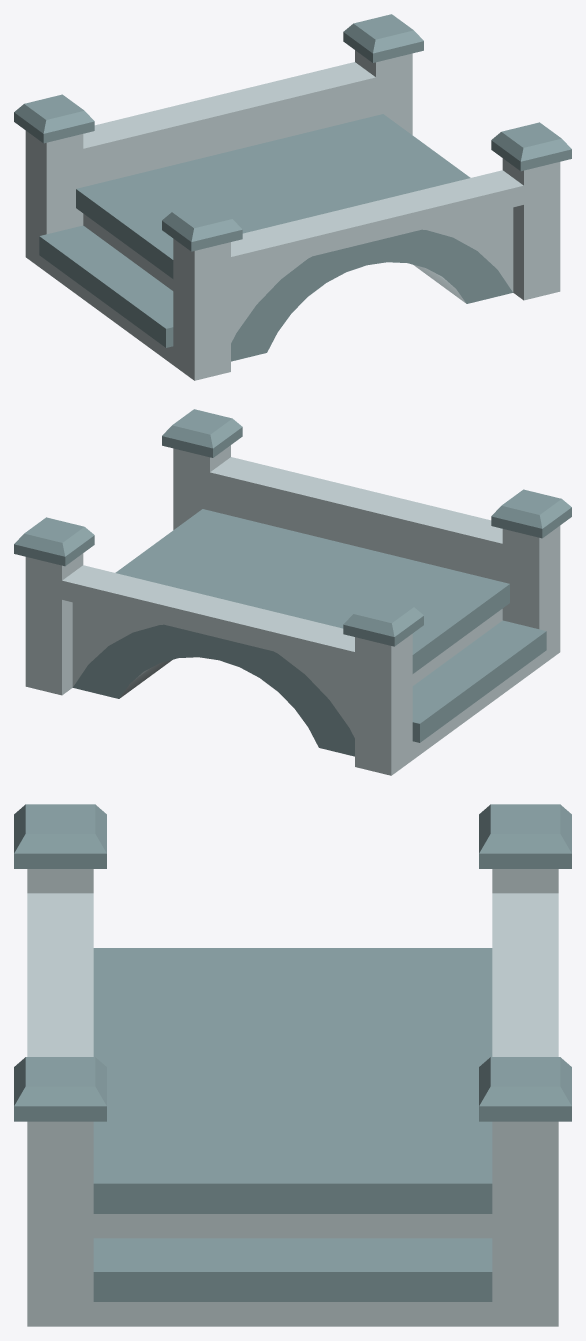
The model's file is bridge_stoneRoundNarrow.glb.
3 renders of one model, top to bottom at view 1: azimuth 30°, elevation 25°; view 2: azimuth 150°, elevation 25°; view 3: azimuth 270°, elevation 25°, orthographic. The views are drawn at different scales.
Visible parts, largest first — view 1: bridge_stoneRoundNarrow; view 2: bridge_stoneRoundNarrow; view 3: bridge_stoneRoundNarrow.
Part boxes in pixels (x1,y1,x2,y2): bridge_stoneRoundNarrow: (14,14,571,380); bridge_stoneRoundNarrow: (14,409,571,775); bridge_stoneRoundNarrow: (14,804,571,1326).
Bounding box in the file's own units: 1.04 × 0.4 × 0.84.
